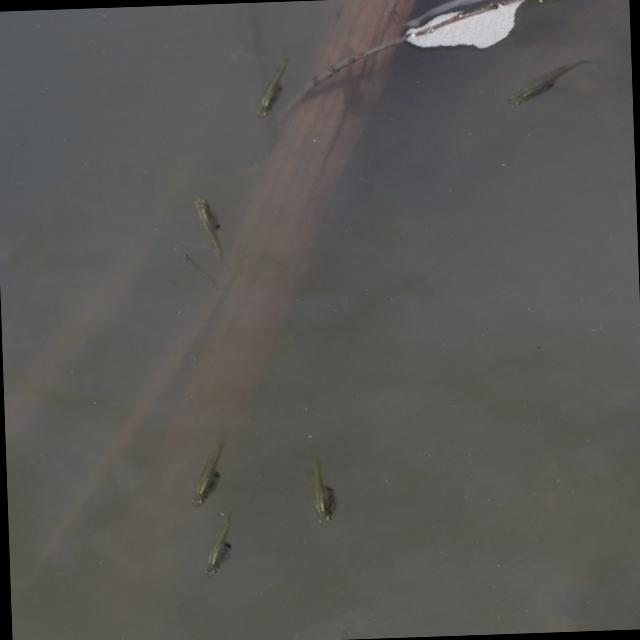Sivrisinek Baligi: (497, 47, 599, 120), (238, 47, 302, 132), (186, 512, 248, 588), (288, 448, 347, 526), (180, 439, 236, 509), (185, 196, 227, 260), (170, 255, 220, 289)
